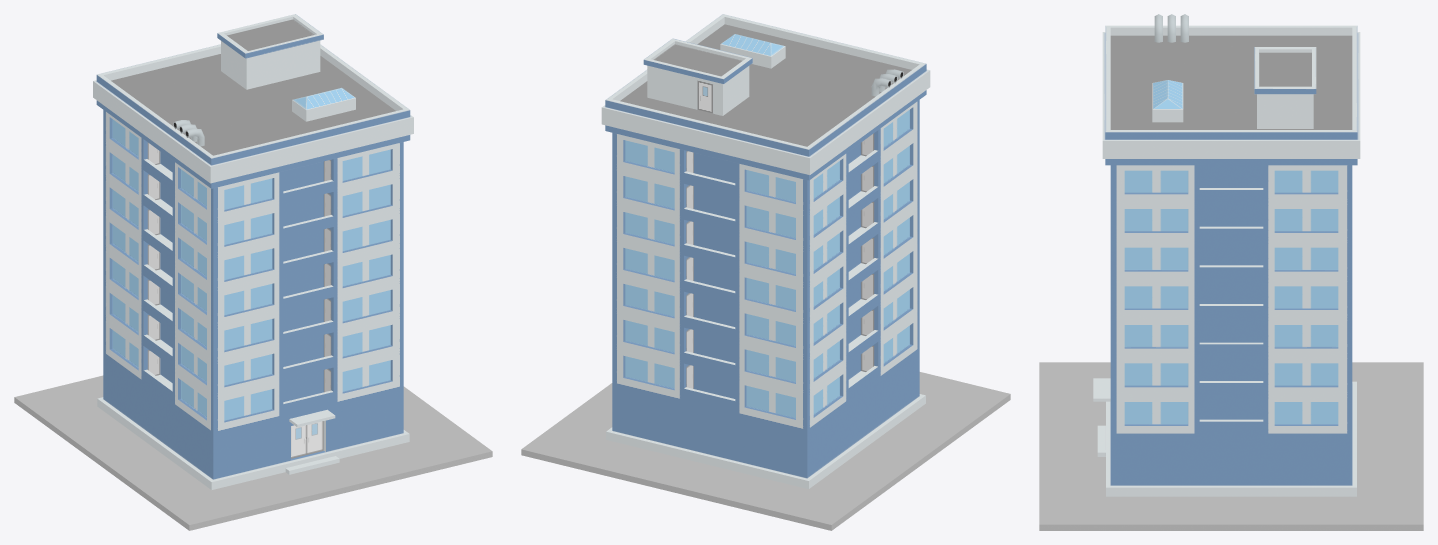
The model's file is Building5.glb.
3 views of the same model, side by side, from view 1: azimuth 30°, elevation 25°; view 2: azimuth 150°, elevation 25°; view 3: azimuth 270°, elevation 25° (orthographic). The views are drawn at different scales.
Parts seen in each view (by area): view 1: Box151; view 2: Box151; view 3: Box151.
Part boxes in pixels (x1,y1,x2,y2): Box151: [14, 14, 492, 530]; Box151: [521, 14, 1010, 530]; Box151: [1039, 14, 1423, 530].
Bounding box in the file's own units: 12 × 13.92 × 12.
1 material, 1 textured.
